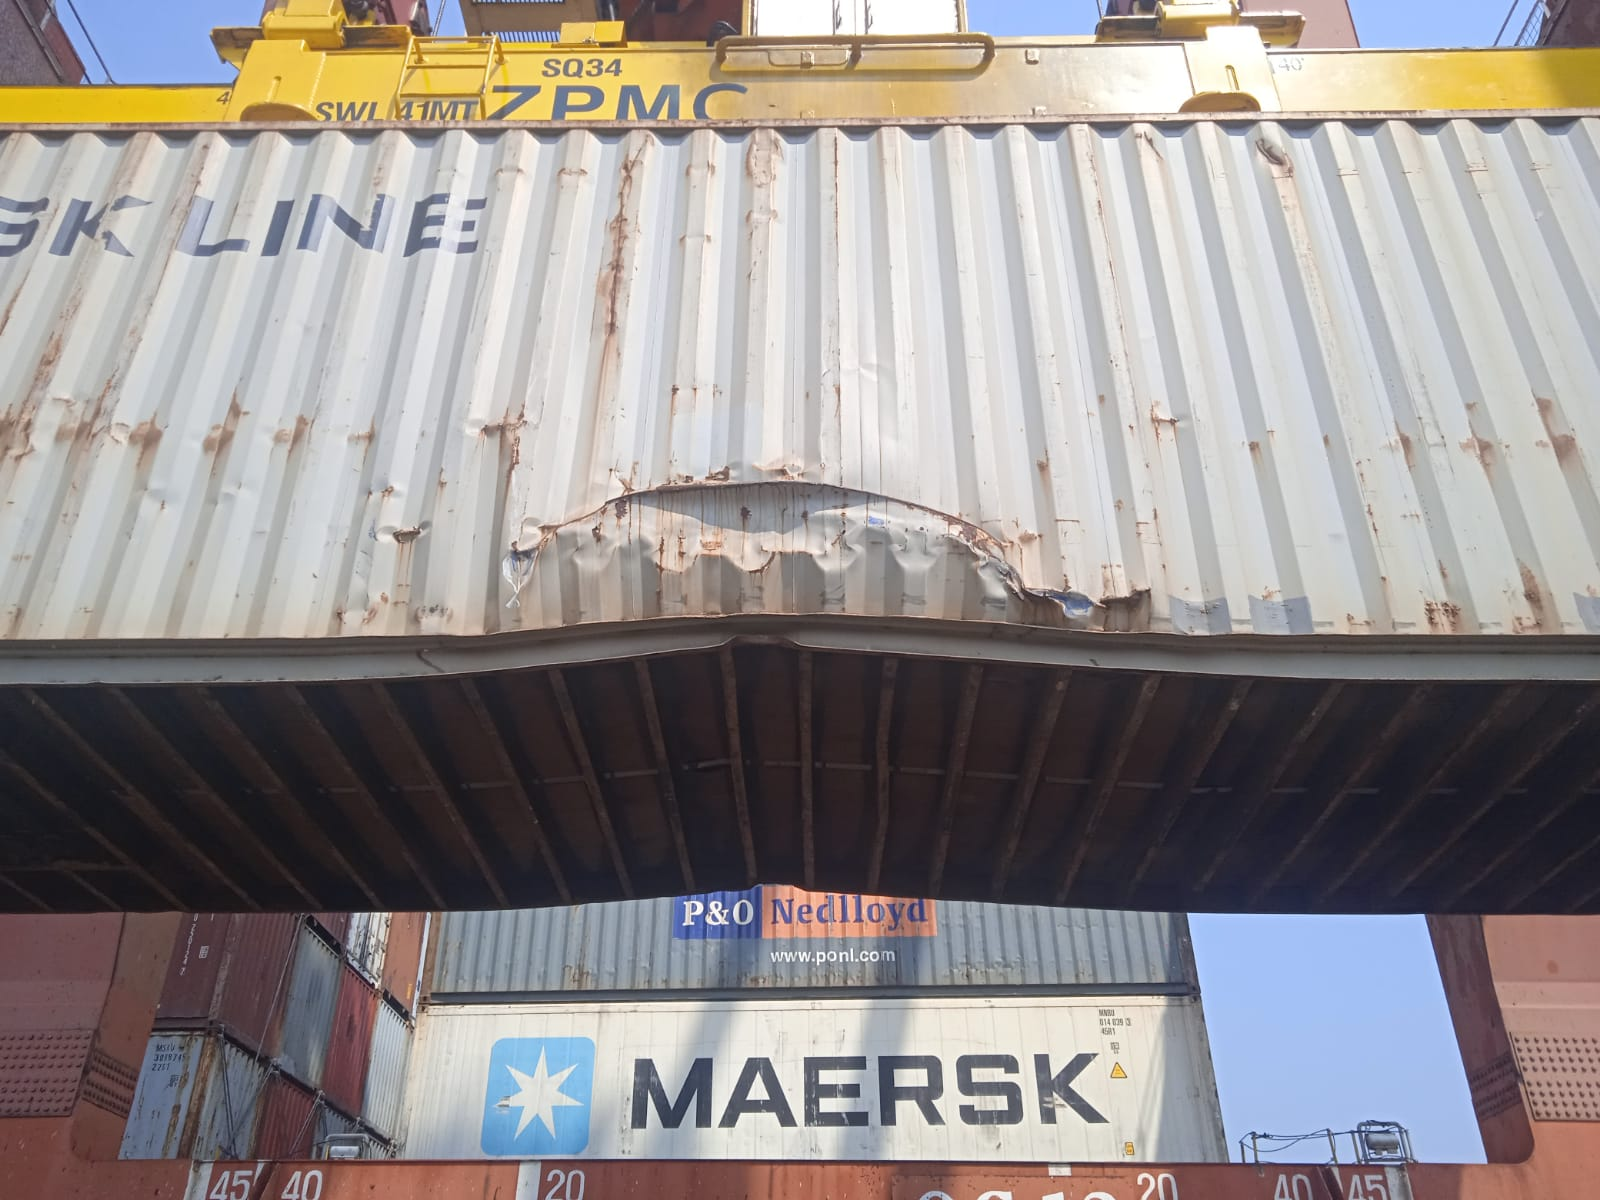bulged: (438, 408, 1167, 628)
